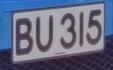1: (77, 8, 89, 52)
3: (58, 8, 80, 55)
5: (85, 6, 104, 48)
B: (13, 14, 36, 60)
U: (34, 12, 58, 56)
